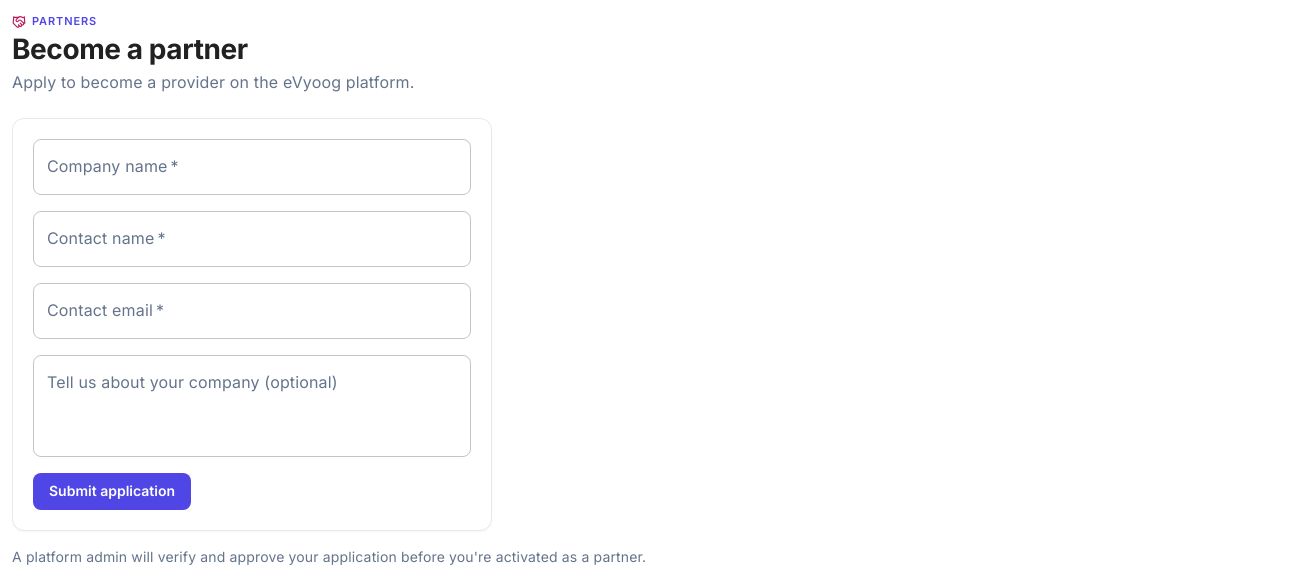
Test case: ProviderApplicationPage › submits an application and shows a confirmation
Type "Acme" into the field labelled "Company name *" at (252, 167), box x1=33 y1=139 x2=471 y2=195
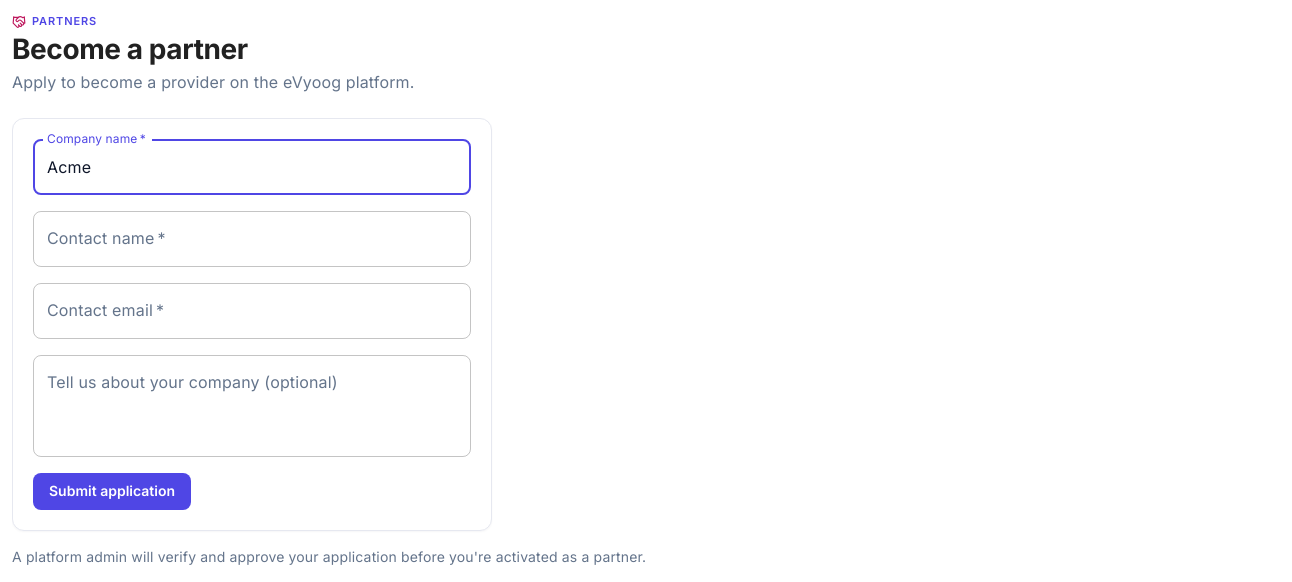
Type "Jane" into the field labelled "Contact name *" at (252, 239), box x1=33 y1=211 x2=471 y2=267
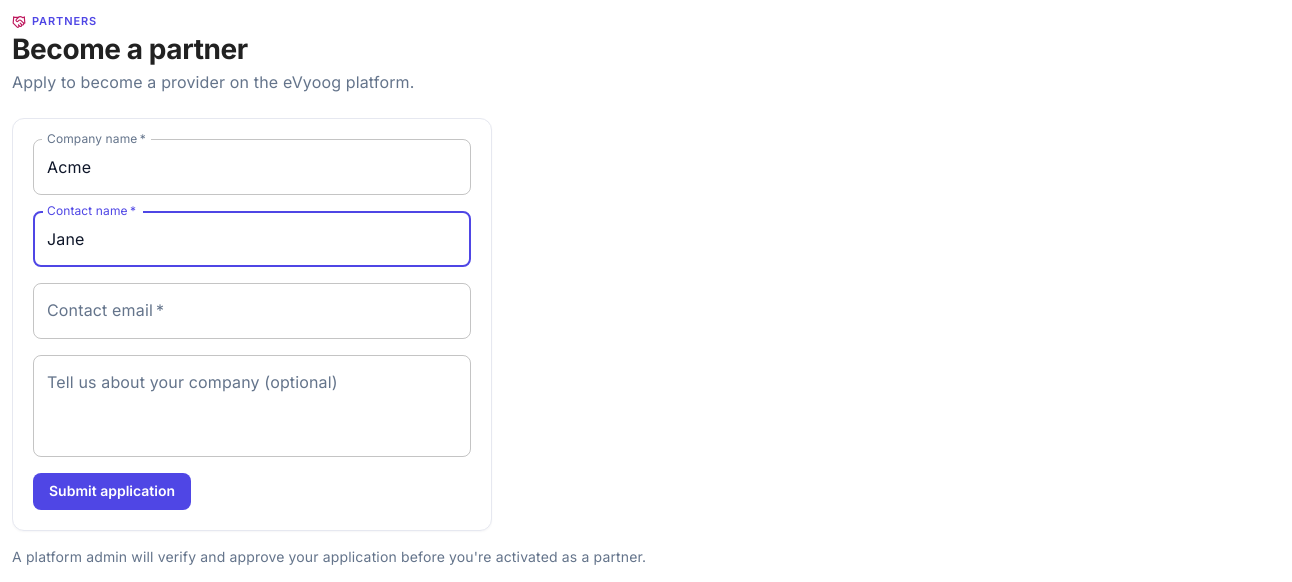
Type "jane@acme.example" into the field labelled "Contact email *" at (252, 311), box x1=33 y1=283 x2=471 y2=339
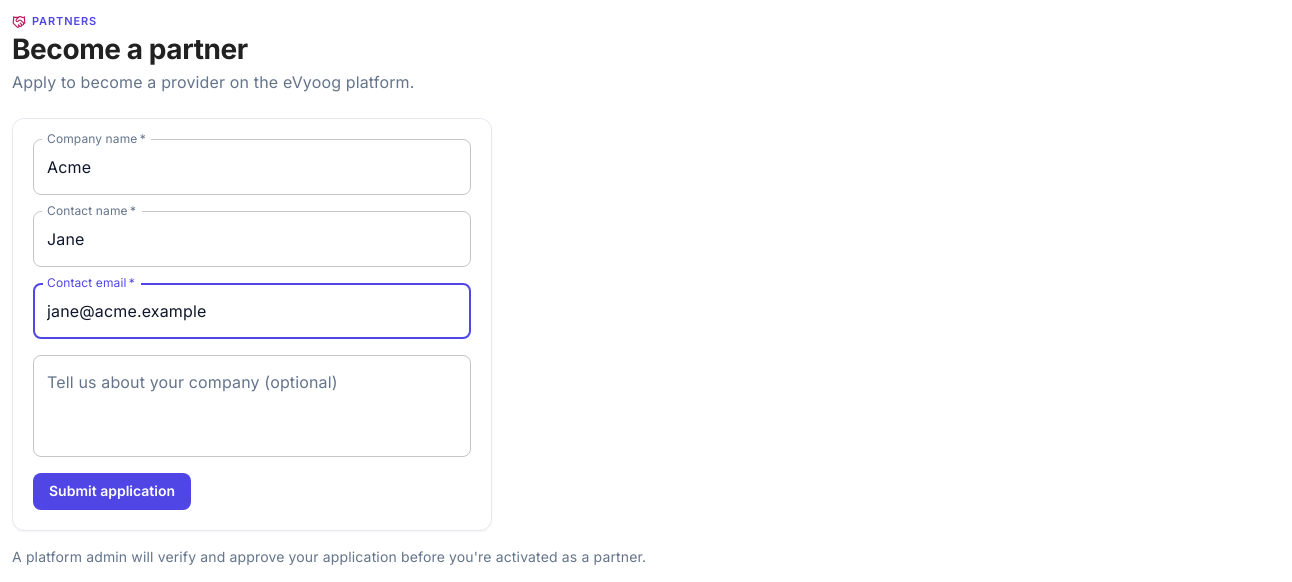
Click the button "Submit application" at (112, 492), box x1=33 y1=473 x2=191 y2=510
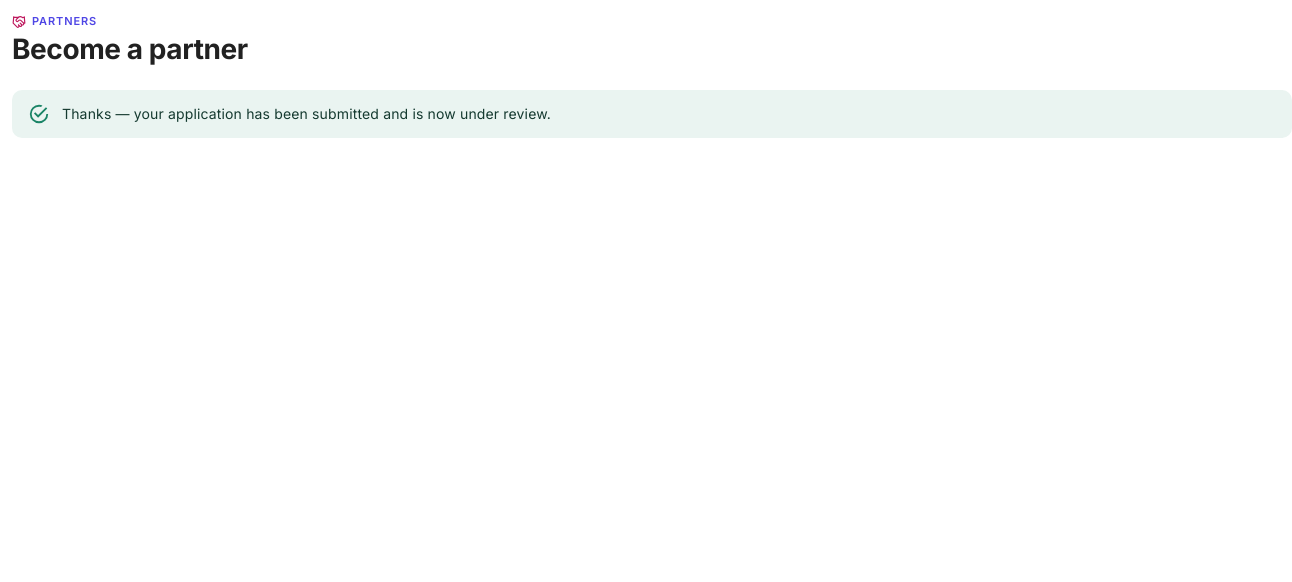
Expected: the text "application has been submitted" is shown, x1=62 y1=105 x2=551 y2=122
